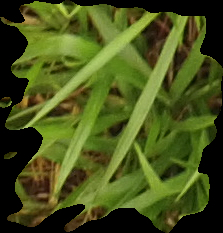grass: (1, 1, 221, 232)
